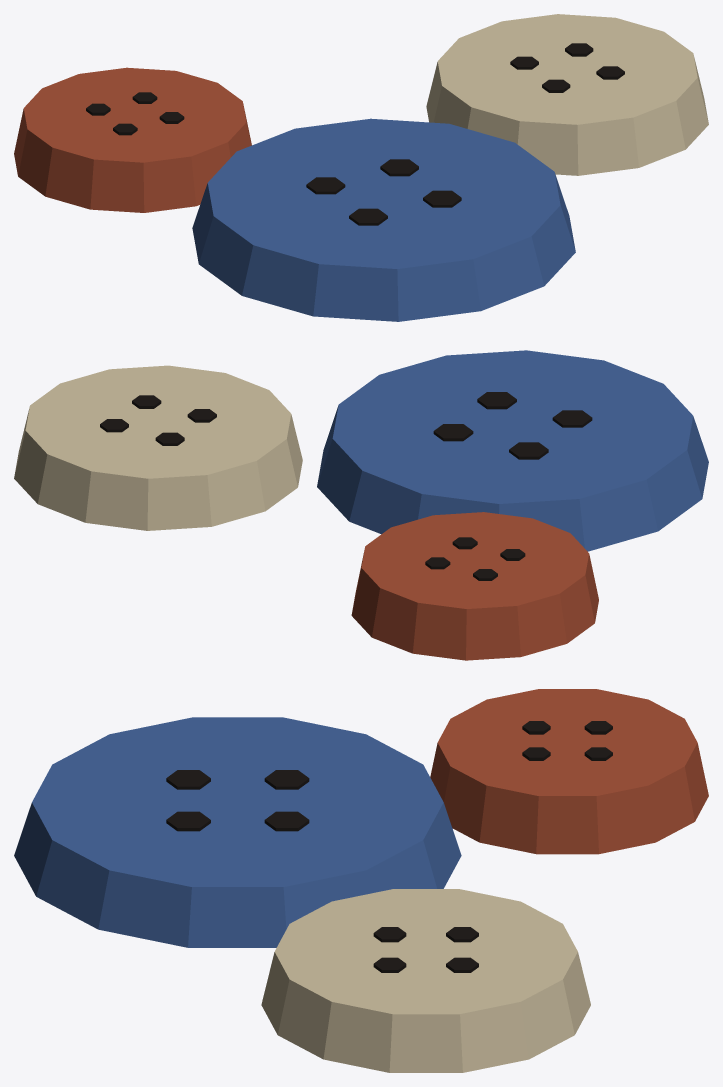
The model's file is decor_buttons.glb.
3 renders of one model, top to bottom at view 1: azimuth 30°, elevation 25°; view 2: azimuth 150°, elevation 25°; view 3: azimuth 270°, elevation 25°, orthographic. The views are drawn at different scales.
Parts seen in each view (by area): view 1: decor_buttons; view 2: decor_buttons; view 3: decor_buttons.
Boxes of the visible parts, bbox=[...] form: decor_buttons: bbox=[14, 14, 708, 321]; decor_buttons: bbox=[14, 350, 708, 660]; decor_buttons: bbox=[14, 689, 708, 1072].
Size of the model in its own units: 0.6735 by 0.053 by 0.59.
